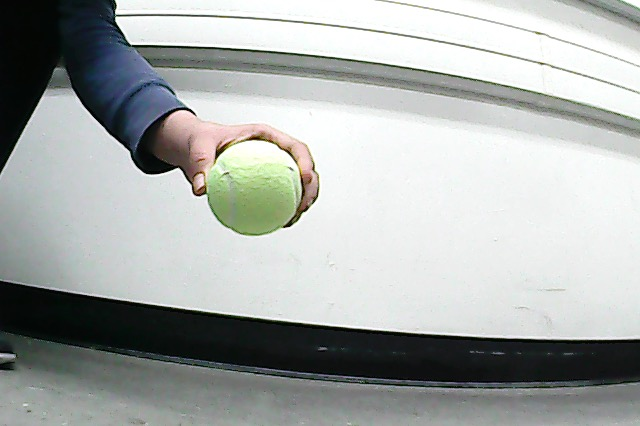ball: (204, 137, 306, 240)
